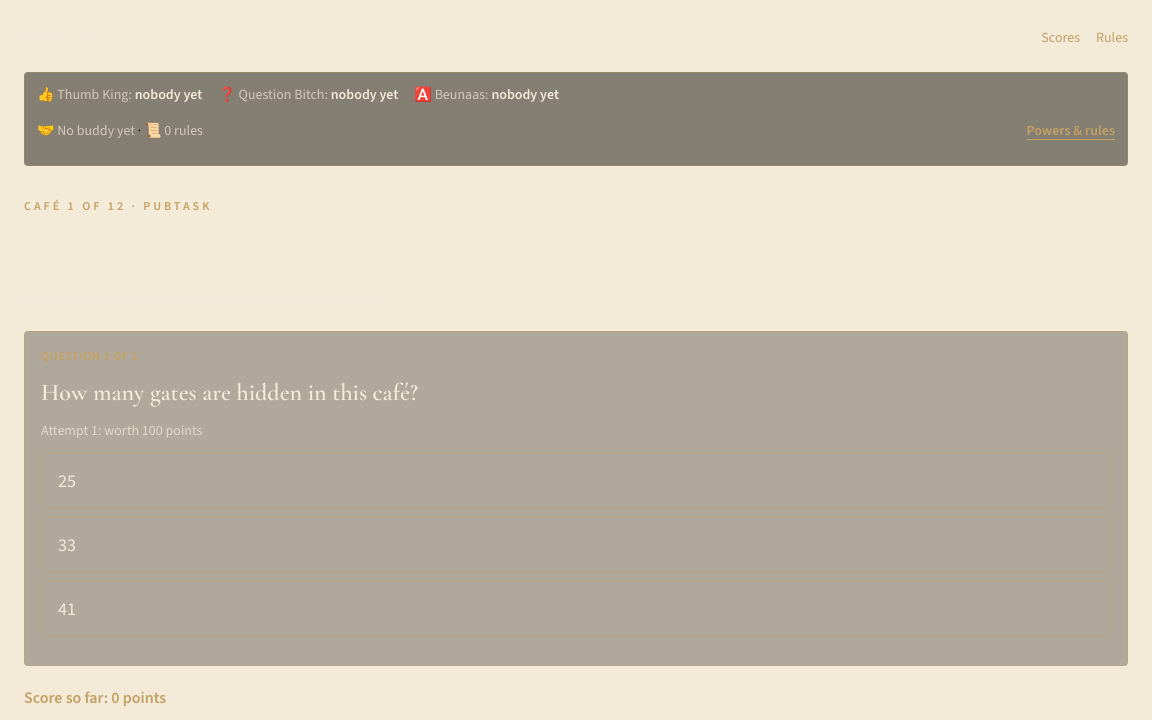
Test case: pubtask › a wrong answer: struck through, Beery's hint, the next try is worth 80
Check: the heading "How many gates are hidden in this café?" is shown, box x1=41 y1=378 x2=418 y2=407
What coordinates should you click on to do the following:
click the button "25"
I would click on:
 (67, 481)
Its box is x1=41 y1=453 x2=1111 y2=509.
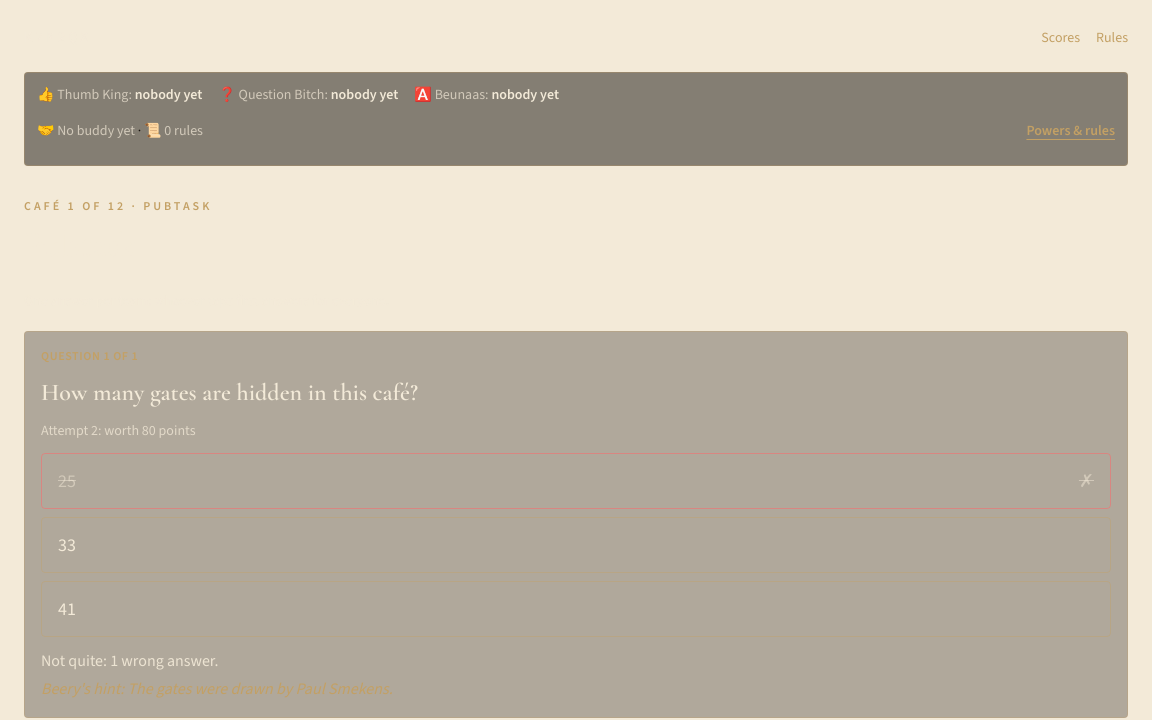
Check: the button "25 ✗" is disabled, box x1=41 y1=453 x2=1111 y2=509
